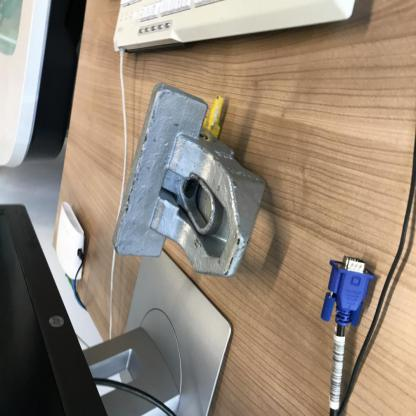Twistlock: (110, 78, 269, 282)
